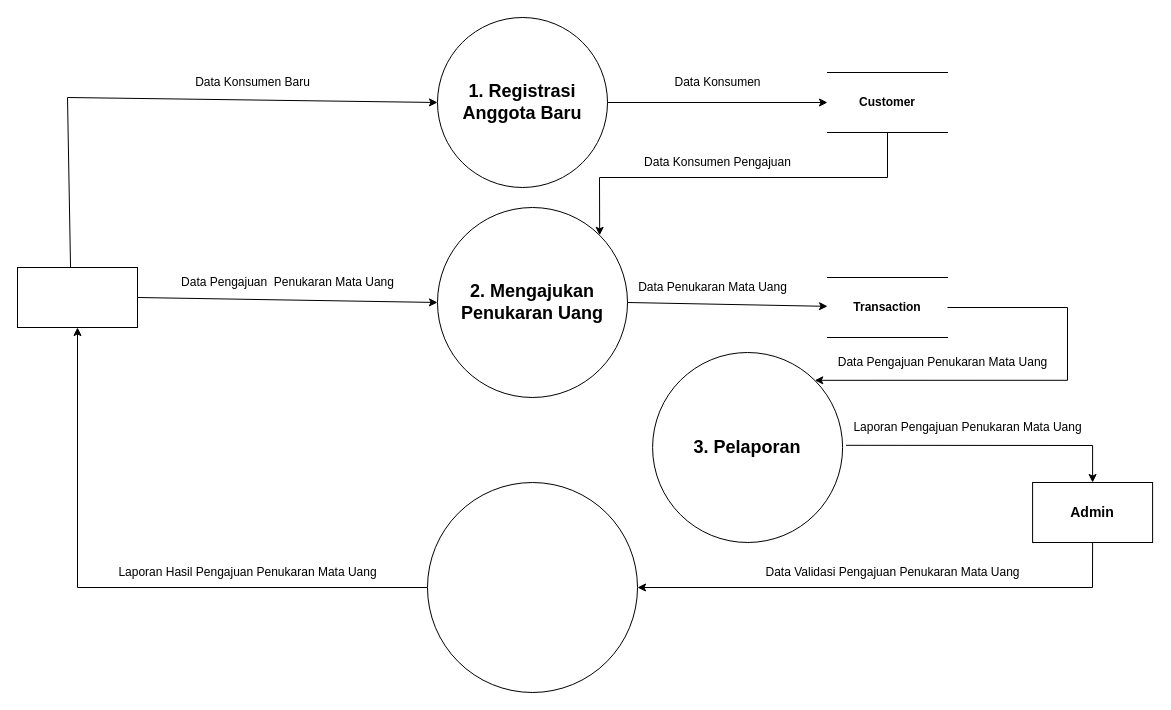
Some shapes in this 1171 by 710 pixel diagram are drawn without their labels. Here are the shapes that lost their labels. From the top down, the box of each, then its label:
(16, 266, 138, 328): Konsumen
(426, 482, 638, 692): 3. Validasi Penukaran Uang
